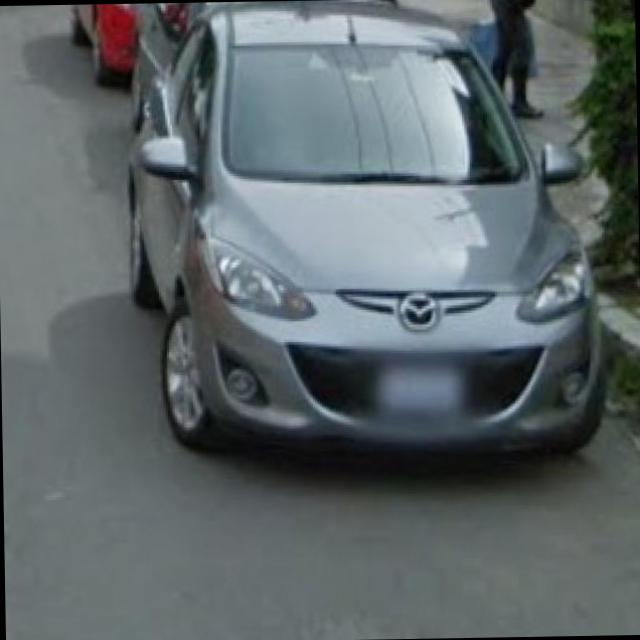car: (112, 0, 586, 491)
